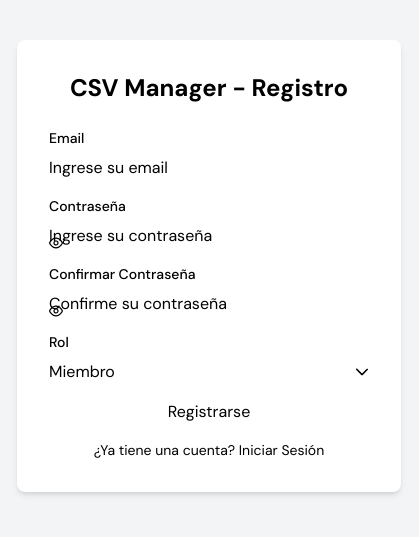
Test: SignUpView › shows validation error for short password
In the field labelled "Email": (209, 168) [49, 156, 369, 180], type "test@example.com"
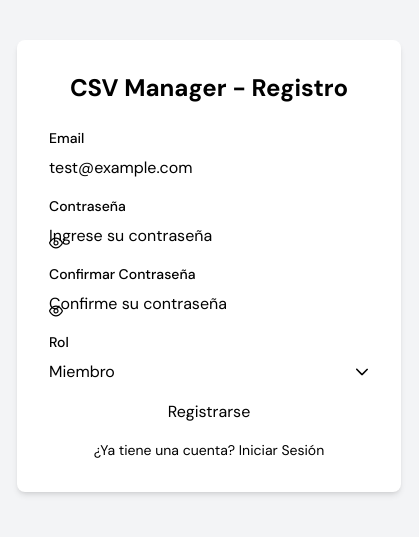
In the password field with placeholder "Ingrese su contraseña": (209, 236) [49, 224, 369, 248], type "123"
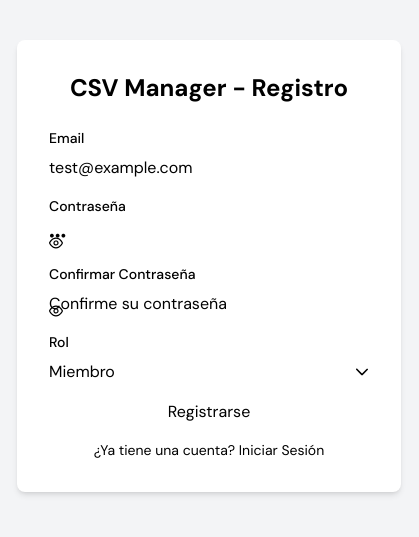
Submit the form, box [49, 128, 369, 424]
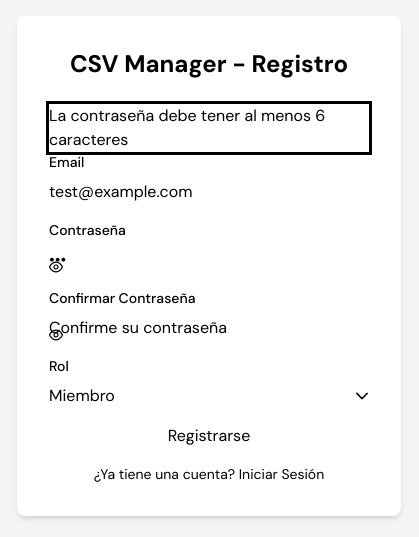
Result: the text "La contraseña debe tener al menos 6 caracteres" is shown at [49, 104, 369, 152]
